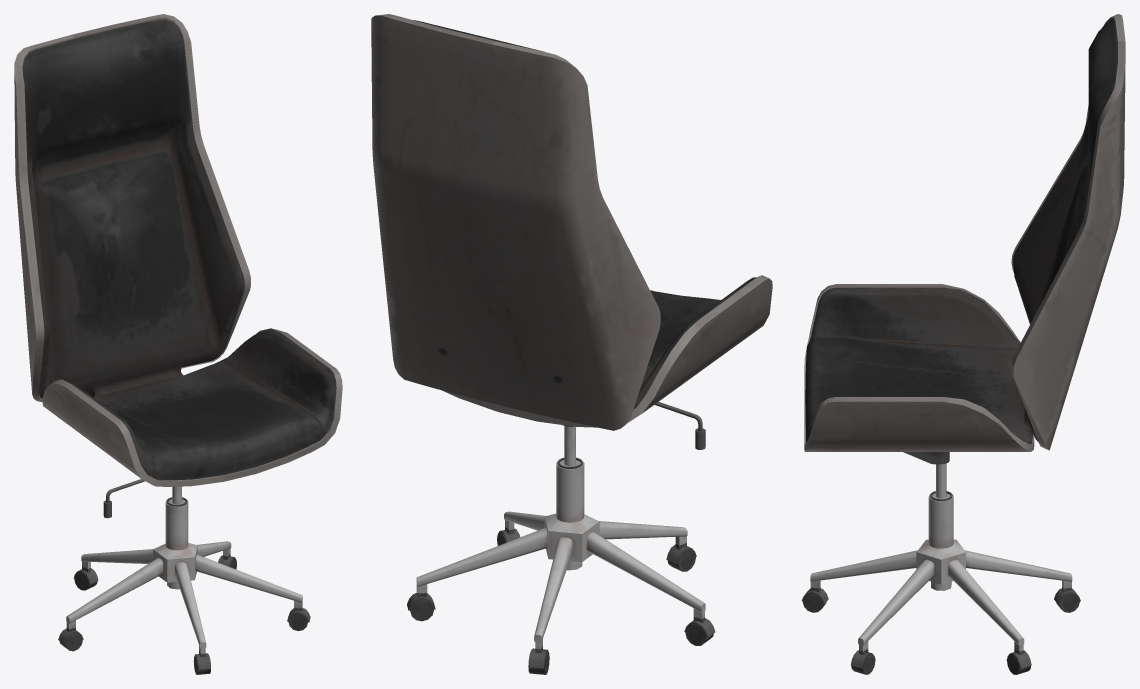
Rendered from SM_OfficeChair.fbx.
3 views of the same model, side by side, from view 1: azimuth 30°, elevation 25°; view 2: azimuth 150°, elevation 25°; view 3: azimuth 270°, elevation 25° (orthographic). The views are drawn at different scales.
Visible parts, largest first — view 1: SM_OfficeChair_LOD0; view 2: SM_OfficeChair_LOD0; view 3: SM_OfficeChair_LOD0.
Boxes of the visible parts, box(x1,y1,x2,y2) form: SM_OfficeChair_LOD0: box(14, 14, 342, 674); SM_OfficeChair_LOD0: box(371, 14, 772, 674); SM_OfficeChair_LOD0: box(802, 14, 1125, 674).
Bounding box in the file's own units: 52.53 × 59.97 × 117.
